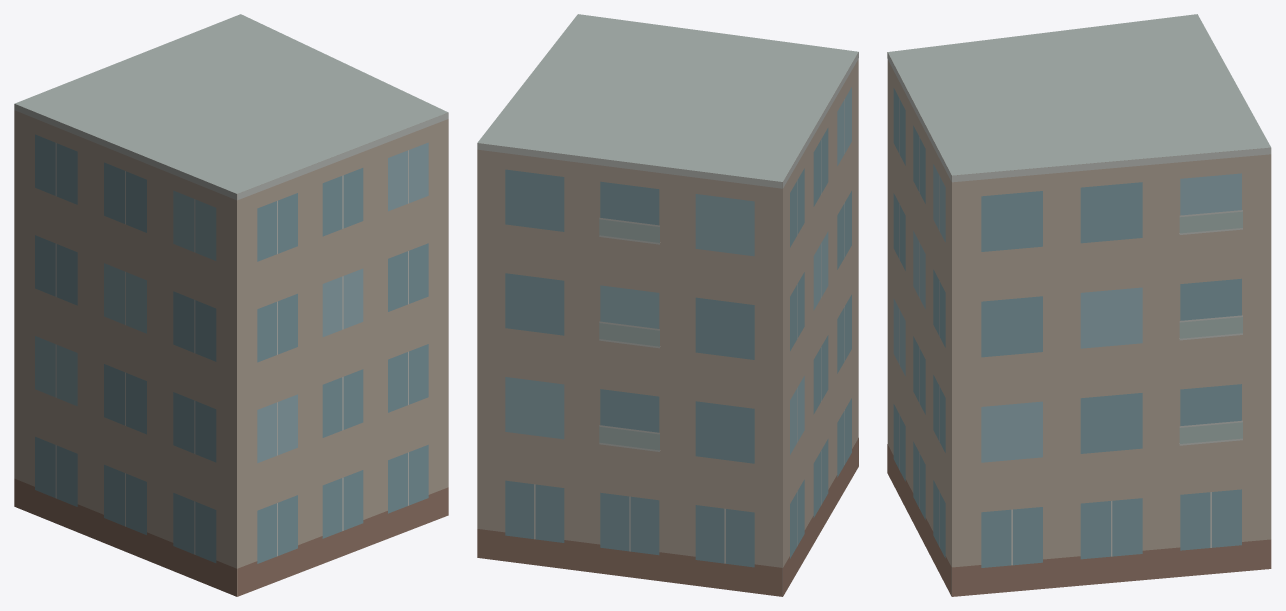
The model's file is survey-upis-32780646.glb.
3 views of the same model, side by side, from view 1: azimuth 30°, elevation 25°; view 2: azimuth 150°, elevation 25°; view 3: azimuth 270°, elevation 25° (orthographic). The views are drawn at different scales.
Parts seen in each view (by area): view 1: survey-upis-32780646.tmp; view 2: survey-upis-32780646.tmp; view 3: survey-upis-32780646.tmp.
Boxes of the visible parts, x1=… form: survey-upis-32780646.tmp: x1=14, y1=14, x2=448, y2=596; survey-upis-32780646.tmp: x1=477, y1=14, x2=858, y2=596; survey-upis-32780646.tmp: x1=887, y1=14, x2=1271, y2=596.
Bounding box in the file's own units: 12.51 × 15.2 × 12.56.
